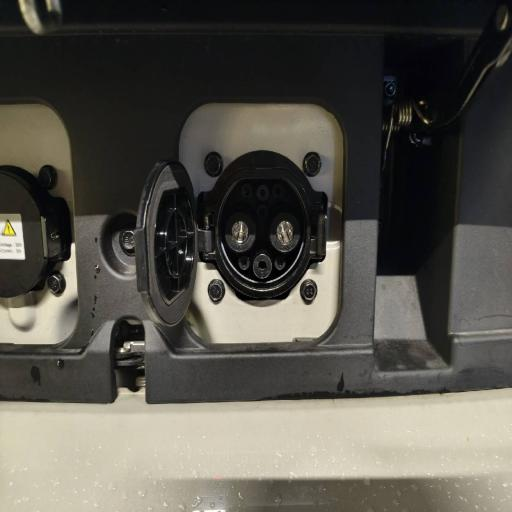DC_hole: (268, 211, 302, 255), (224, 210, 256, 253)
PE: (252, 254, 272, 280)
charging_port: (212, 166, 312, 300)
